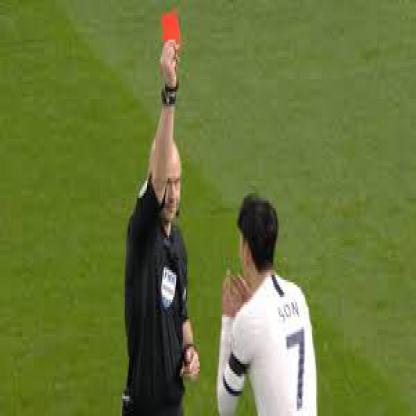foul: (143, 1, 200, 140)
